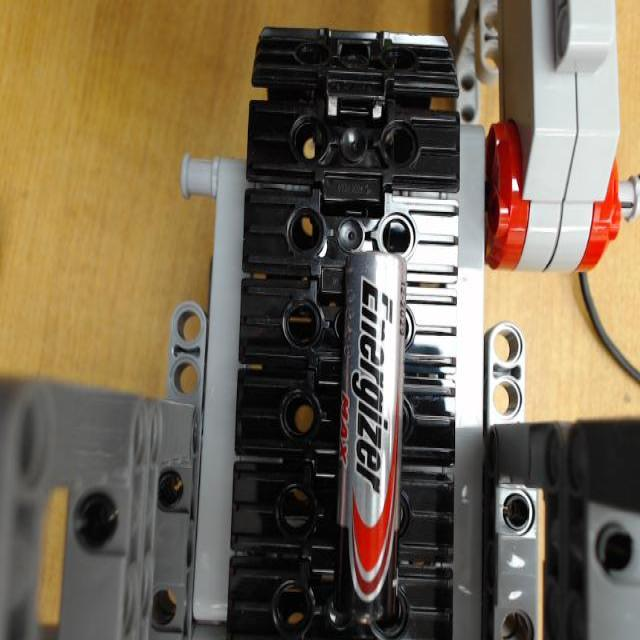AAA: (348, 252, 402, 615)
